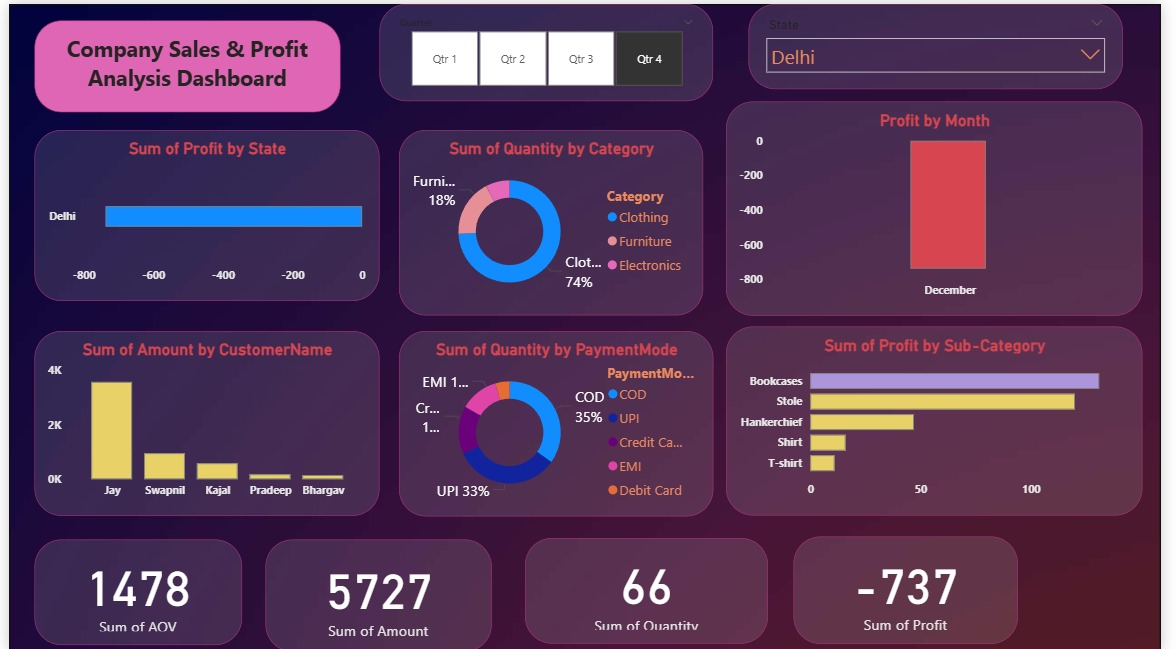

The dashboard page shown, as its layout file describes it:
{"tool":"powerbi","page":{"name":"Page 1","canvas":[1280,720],"ordinal":0},"visuals":[{"type":"textbox","box":[28.3,20.8,340.2,86.9],"z":1},{"type":"columnChart","title":" Profit by Month","fields":{"Y":["Sum(Details.Profit)"],"Category":["Orders.Order Date.Variation.Date Hierarchy.Month"]},"box":[797.5,107.7,463,238.1],"z":2},{"type":"barChart","fields":{"Category":["Details.Sub-Category"],"Y":["Sum(Details.Profit)"]},"box":[797.5,359.1,463,209.8],"z":3},{"type":"donutChart","fields":{"Category":["Details.Category"],"Y":["Sum(Details.Quantity)"]},"box":[432.8,139.8,338.3,206],"z":4},{"type":"donutChart","fields":{"Y":["Sum(Details.Quantity)"],"Category":["Details.PaymentMode"]},"box":[432.8,362.8,349.6,206],"z":5},{"type":"card","fields":{"Values":["Sum(Details.Amount)"]},"box":[285.4,595.3,251.3,124.7],"z":6},{"type":"card","fields":{"Values":["Sum(Details.Quantity)"]},"box":[572.6,593.4,270.2,117.2],"z":7},{"type":"card","fields":{"Values":["Sum(Details.Profit)"]},"box":[871.2,591.5,249.5,119.1],"z":8},{"type":"card","fields":{"Values":["Sum(Details.AOV)"]},"box":[28.3,595.3,230.6,117.2],"z":9},{"type":"barChart","fields":{"Y":["Sum(Details.Profit)"],"Category":["Orders.State"]},"box":[28.3,139.8,383.6,190.9],"z":10},{"type":"columnChart","fields":{"Category":["Orders.CustomerName"],"Y":["Sum(Details.Amount)"]},"box":[5.7,362.8,406.3,206],"z":11},{"type":"slicer","fields":{"Values":["Orders.Order Date.Variation.Date Hierarchy.Quarter"]},"box":[412,0,370.4,107.7],"z":12},{"type":"slicer","fields":{"Values":["Orders.State"]},"box":[822.1,0,415.8,94.5],"z":13}]}

Visuals, with their boxes in screenshot pixels (x1, y1, x2, y2), scaled from the page's 1280x720 canvas onto the 1176x649 screenshot:
textbox: [left=26, top=19, right=339, bottom=97]
" Profit by Month" columnChart: [left=733, top=97, right=1158, bottom=312]
barChart - Details.Sub-Category x Sum(Details.Profit): [left=733, top=324, right=1158, bottom=513]
donutChart - Details.Category x Sum(Details.Quantity): [left=398, top=126, right=708, bottom=312]
donutChart - Sum(Details.Quantity) x Details.PaymentMode: [left=398, top=327, right=719, bottom=513]
card - Sum(Details.Amount): [left=262, top=537, right=493, bottom=648]
card - Sum(Details.Quantity): [left=526, top=535, right=774, bottom=641]
card - Sum(Details.Profit): [left=800, top=533, right=1030, bottom=641]
card - Sum(Details.AOV): [left=26, top=537, right=238, bottom=642]
barChart - Sum(Details.Profit) x Orders.State: [left=26, top=126, right=378, bottom=298]
columnChart - Orders.CustomerName x Sum(Details.Amount): [left=5, top=327, right=379, bottom=513]
slicer - Orders.Order Date.Variation.Date Hierarchy.Quarter: [left=379, top=0, right=719, bottom=97]
slicer - Orders.State: [left=755, top=0, right=1137, bottom=85]
